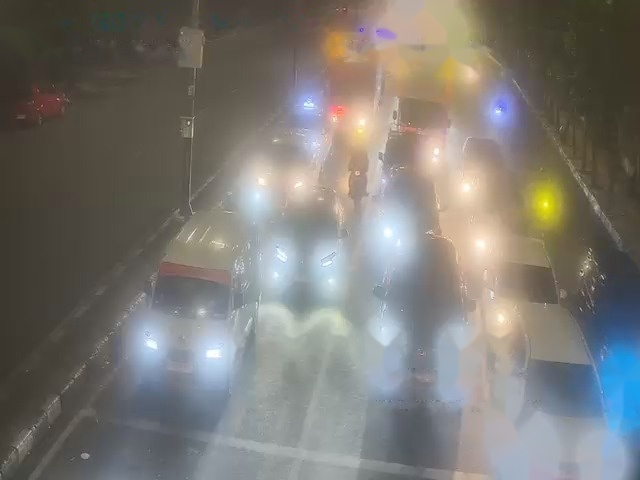Mobil: (139, 212, 253, 386), (491, 308, 599, 480), (378, 238, 464, 389), (267, 179, 343, 294), (475, 236, 562, 317), (574, 251, 640, 343), (389, 163, 441, 243), (256, 124, 316, 191), (461, 136, 506, 198), (11, 78, 63, 125), (291, 95, 335, 148)
Motor: (528, 166, 561, 228), (489, 89, 514, 131), (351, 141, 368, 200)
Truk: (387, 69, 453, 155), (327, 39, 382, 131)
